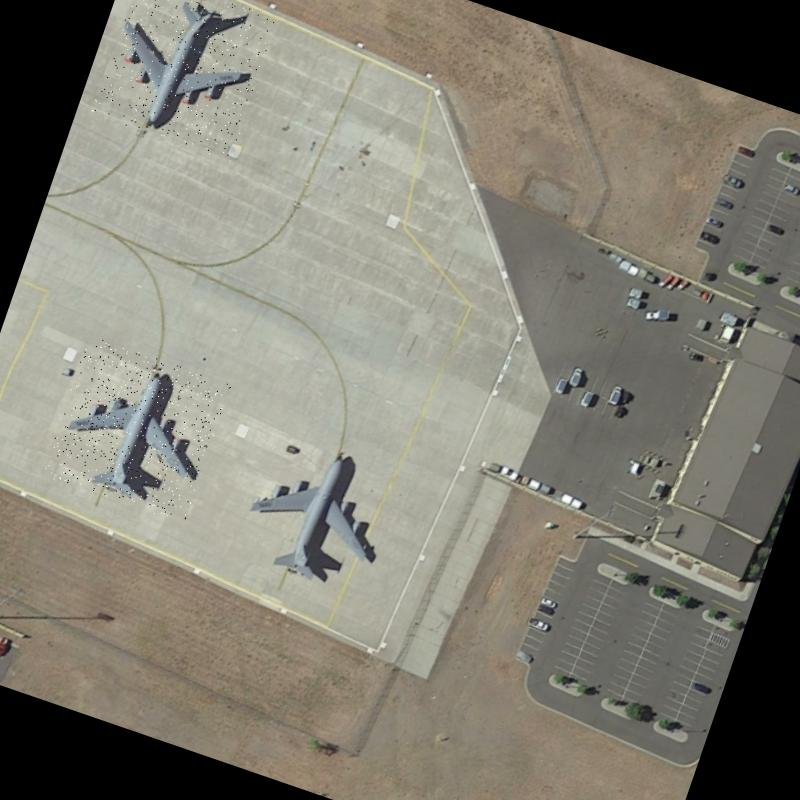A14: (224, 415, 416, 612), (41, 336, 232, 524), (90, 0, 279, 162)
